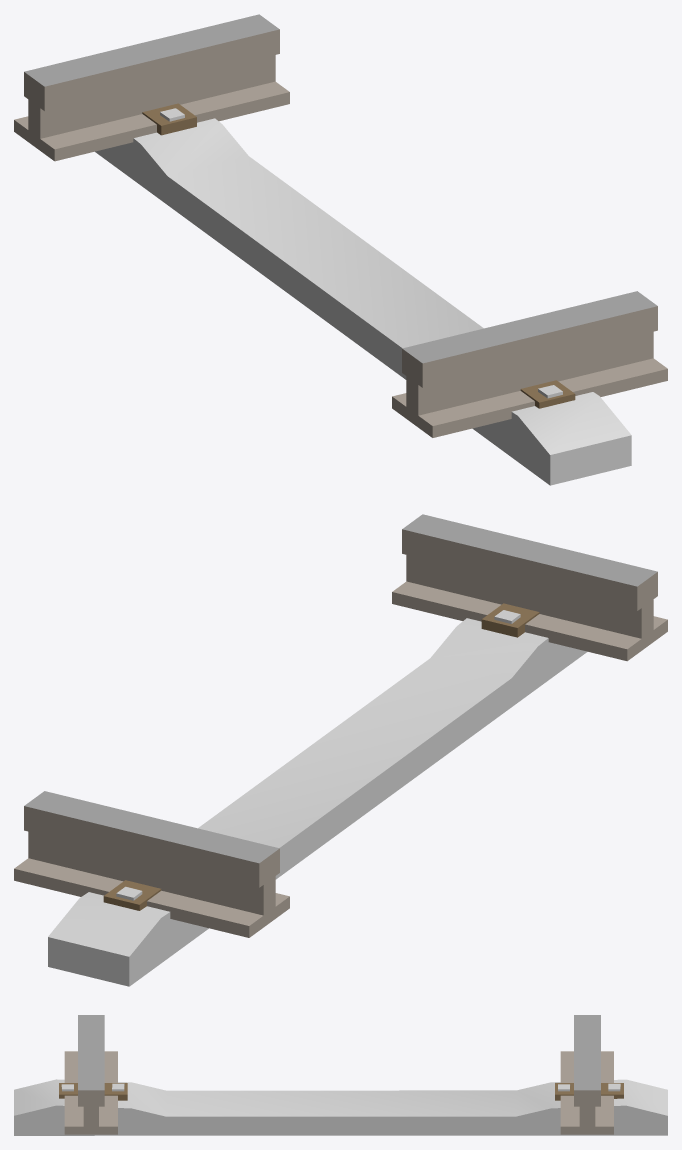
The model's file is road7.fbx.
3 renders of one model, top to bottom at view 1: azimuth 30°, elevation 25°; view 2: azimuth 150°, elevation 25°; view 3: azimuth 270°, elevation 25°, orthographic. The views are drawn at different scales.
Visible parts, largest first — view 1: Null_1; view 2: Null_1; view 3: Null_1.
Boxes of the visible parts, x1,y1,x2,y2 form: Null_1: (14,14,667,485); Null_1: (14,514,667,986); Null_1: (14,1015,667,1135).
Size of the model in its own units: 116 by 49.79 by 425.
